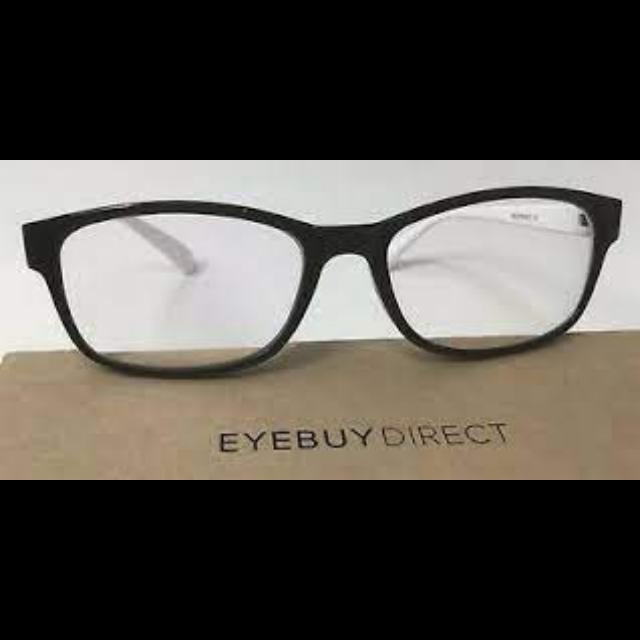mask: (22, 188, 632, 376)
